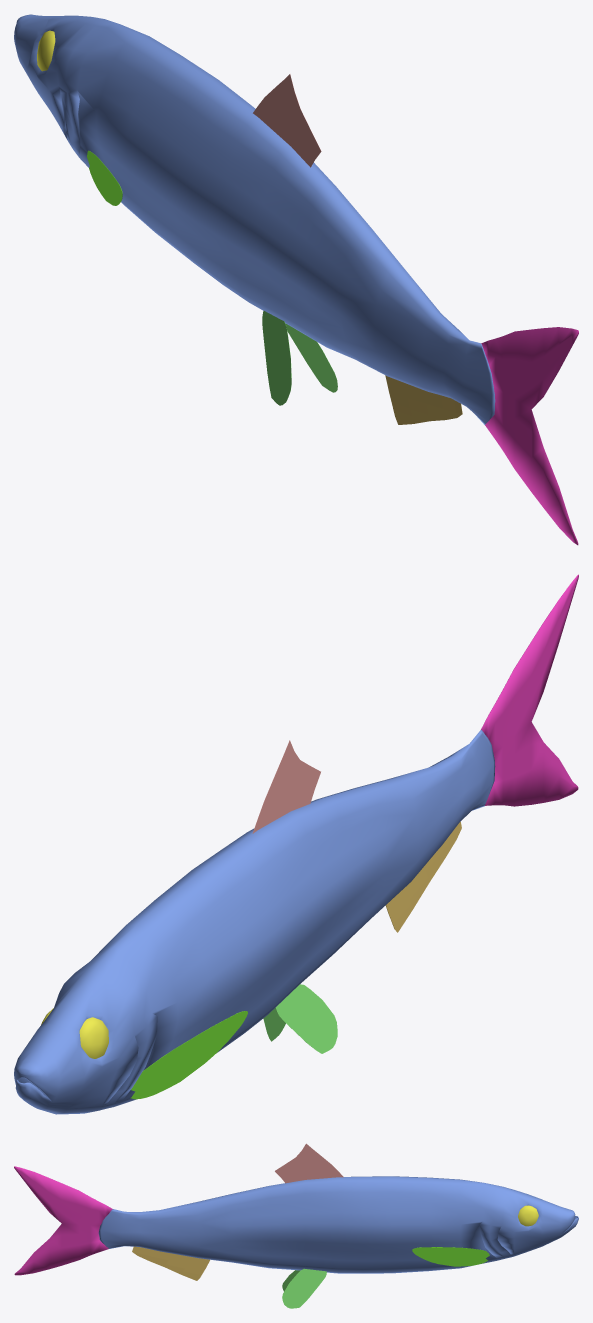
File: Bökling.fbx
3 views of the same model, one above another, from view 1: azimuth 30°, elevation 25°; view 2: azimuth 150°, elevation 25°; view 3: azimuth 270°, elevation 25° (orthographic). The views are drawn at different scales.
Parts seen in each view (by area): view 1: Bökling; view 2: Bökling; view 3: Bökling.
Part boxes in pixels (x1,y1,x2,y2): Bökling: (14, 14, 578, 545); Bökling: (14, 574, 578, 1114); Bökling: (14, 1143, 578, 1308).
Bounding box in the file's own units: 13.64 × 32.47 × 105.
